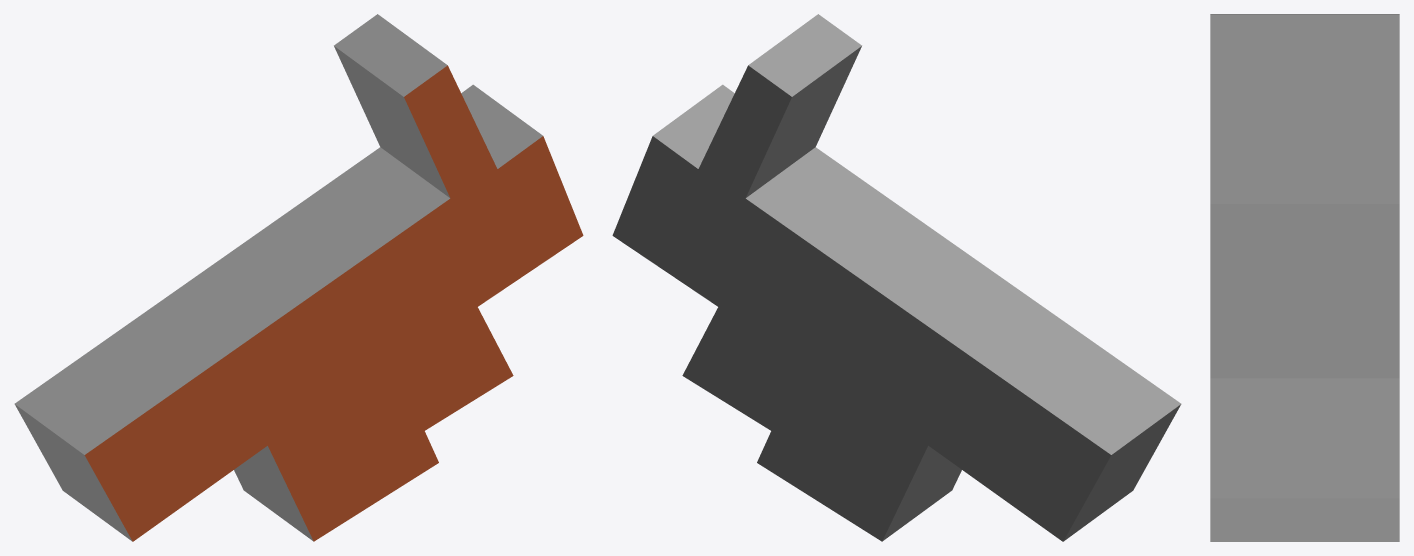
Rendered from construction_0225_assumed_A_Casa_h6m.obj.
3 renders of one model, left to right at view 1: azimuth 30°, elevation 25°; view 2: azimuth 150°, elevation 25°; view 3: azimuth 270°, elevation 25°, orthographic. The views are drawn at different scales.
Parts seen in each view (by area): view 1: construction_0225_assumed_A_Casa; view 2: construction_0225_assumed_A_Casa; view 3: construction_0225_assumed_A_Casa.
Boxes of the visible parts, x1,y1,x2,y2 form: construction_0225_assumed_A_Casa: (14,14,583,541); construction_0225_assumed_A_Casa: (612,14,1181,541); construction_0225_assumed_A_Casa: (1210,14,1399,541).
Size of the model in its own units: 24.65 by 20.95 by 6.
